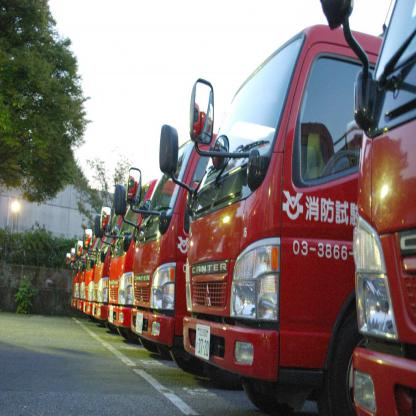Truck: (66, 0, 416, 416)
